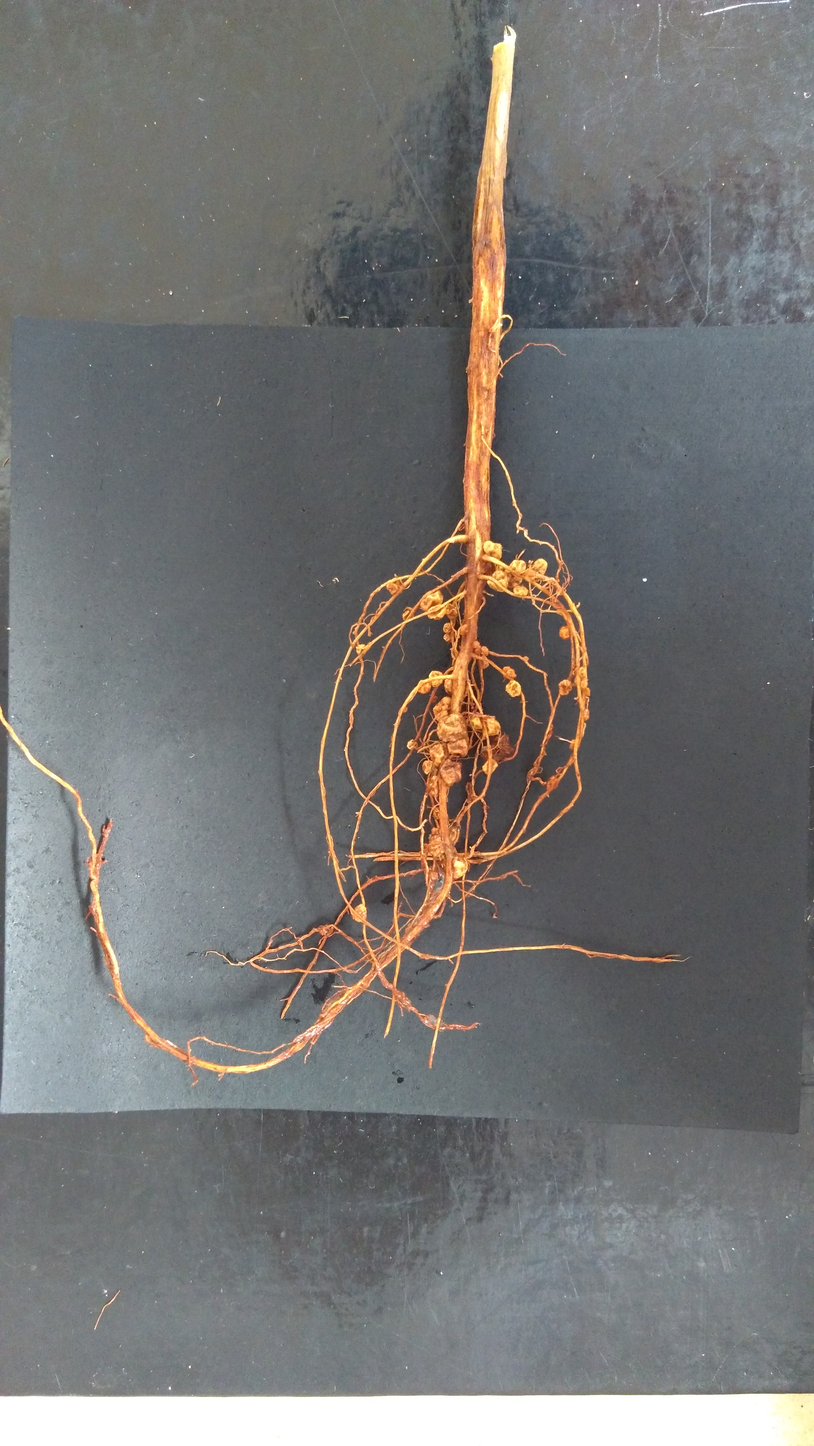nodule: (480, 734, 516, 765), (436, 712, 469, 742), (446, 735, 470, 759), (419, 589, 444, 612), (486, 569, 509, 593), (432, 696, 452, 723), (442, 759, 462, 785), (481, 539, 504, 561), (428, 744, 445, 768), (425, 603, 447, 621), (504, 679, 523, 699), (452, 855, 468, 878), (350, 903, 368, 923), (429, 827, 442, 854), (481, 757, 499, 776), (484, 717, 502, 736), (532, 557, 548, 576), (508, 558, 527, 574), (444, 602, 460, 620), (428, 670, 444, 688), (557, 679, 573, 697), (448, 819, 460, 843), (511, 583, 530, 598), (427, 775, 439, 797), (507, 573, 523, 589), (416, 679, 432, 695), (469, 716, 484, 732), (558, 624, 571, 641), (502, 665, 517, 679), (443, 678, 454, 695), (421, 760, 433, 775), (385, 582, 398, 595), (546, 775, 558, 789), (355, 643, 367, 656), (406, 738, 419, 750), (442, 621, 453, 634), (567, 738, 576, 752), (401, 610, 411, 622), (480, 658, 490, 670), (481, 644, 490, 657), (458, 625, 468, 635), (555, 765, 566, 774), (578, 666, 586, 678), (443, 633, 451, 644), (555, 588, 563, 598), (581, 678, 588, 689), (472, 640, 480, 649), (402, 706, 409, 714), (586, 687, 591, 697), (574, 675, 578, 686), (432, 696, 438, 703), (523, 655, 529, 662)
